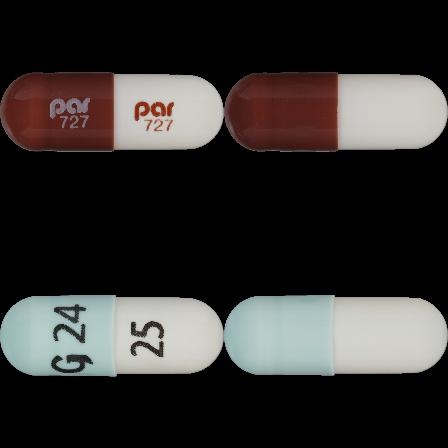55700-323: (0, 0, 224, 224)
